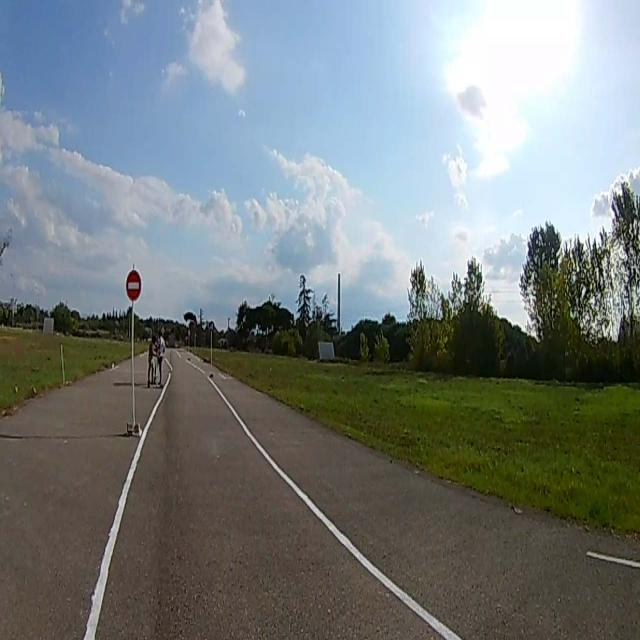girisyok: (127, 271, 141, 301)
